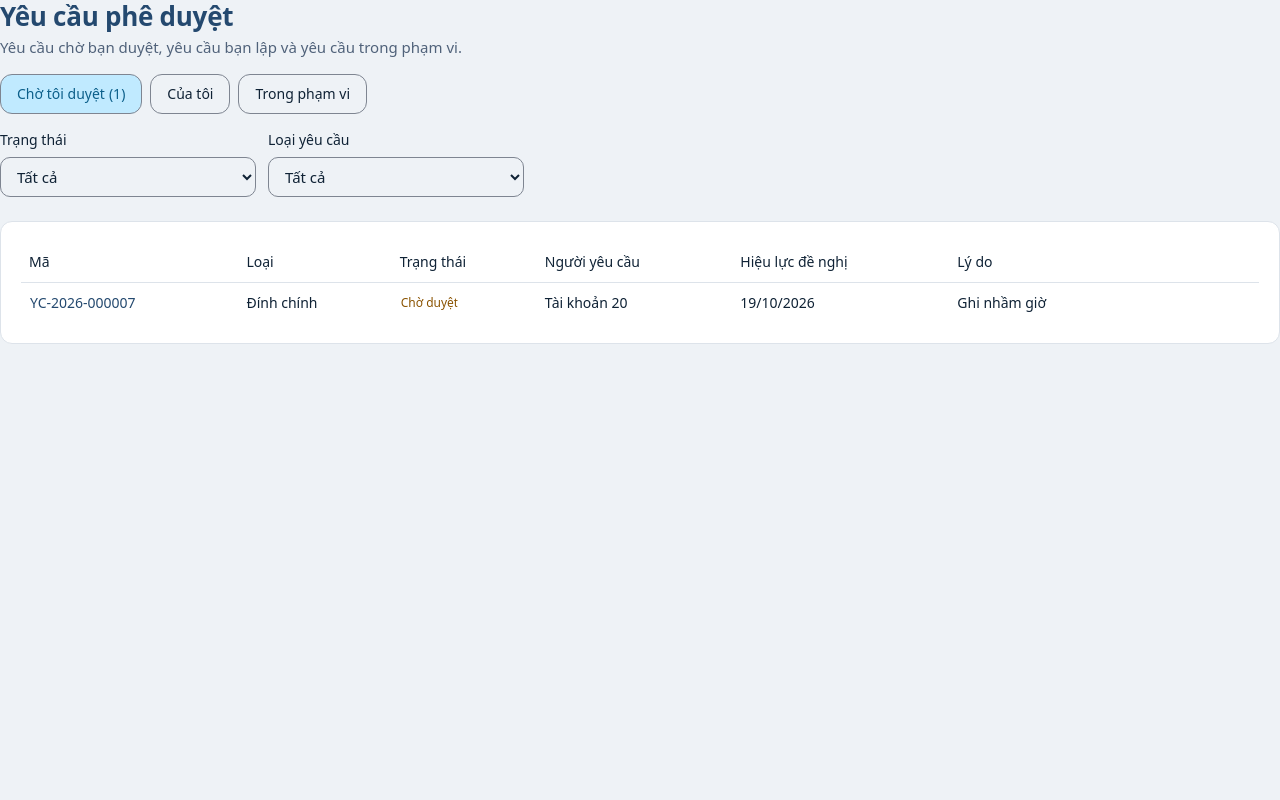
Scenario: ApprovalInbox › US5_3_chiTiet_noiDungTruongGiaTri_nutTheoAllowedCommands
Click the button "YC-2026-000007" at (83, 303), box [29,292,137,314]
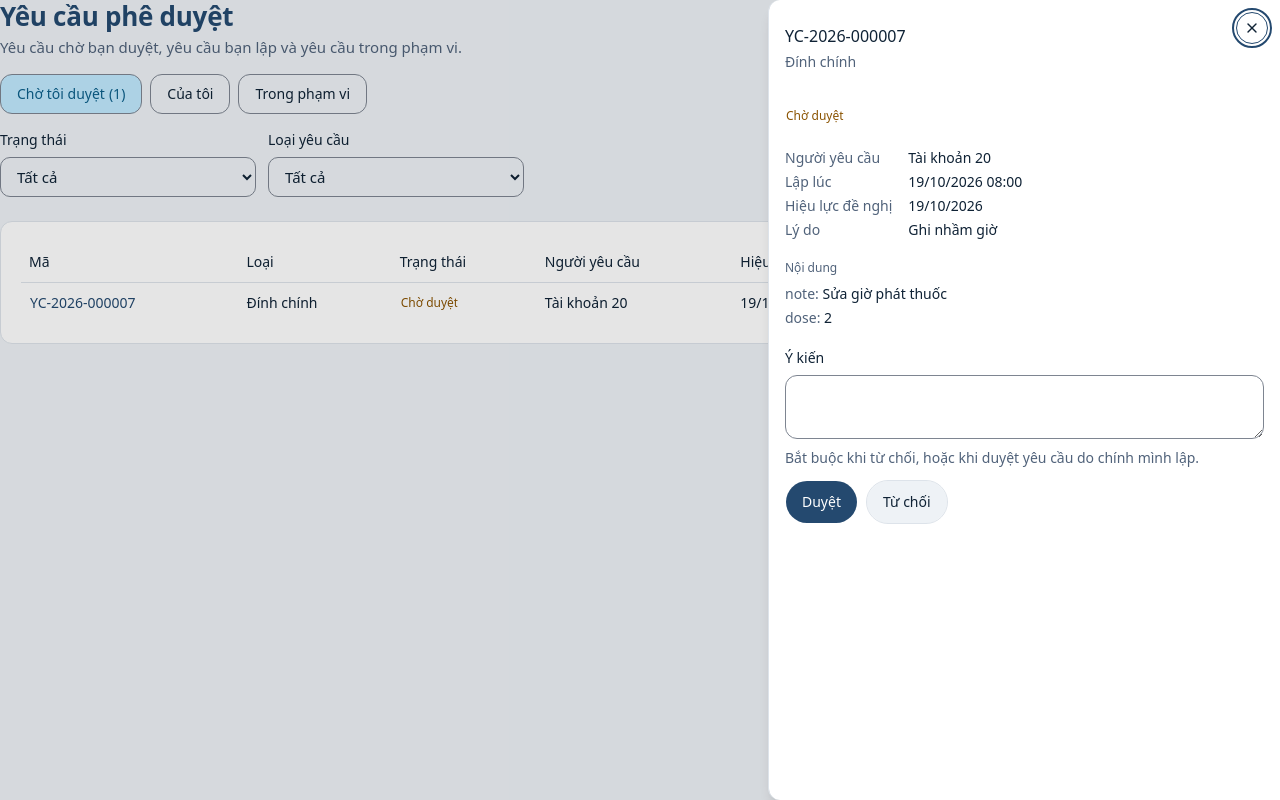
Now the text "Ghi nhầm giờ" is shown, box [908,220,997,239]
Now the text "note:" is shown, box [785,284,819,303]
Now the text "Sửa giờ phát thuốc" is shown, box [822,284,947,303]
